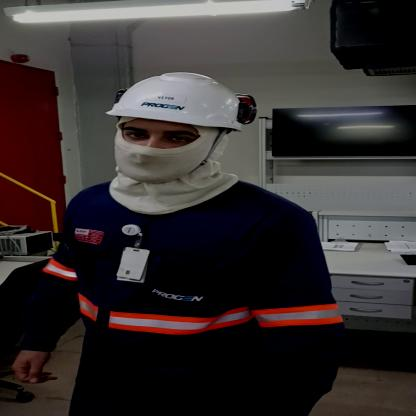Balaclava: (102, 119, 245, 215)
Capacete: (103, 69, 249, 135)
